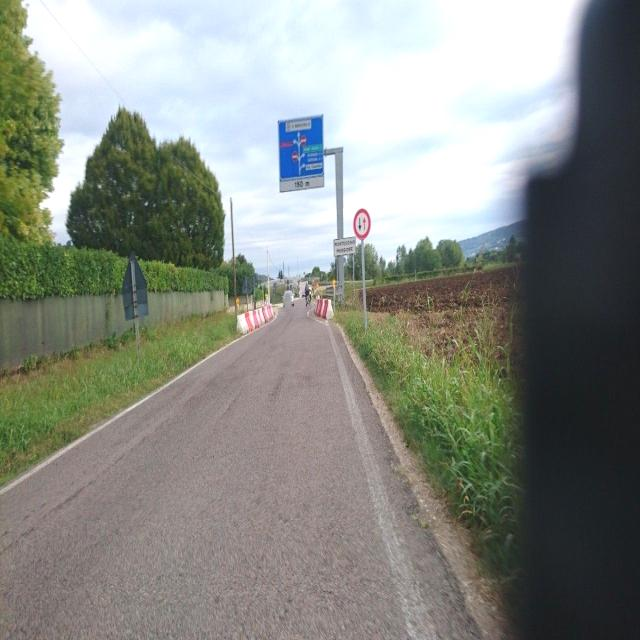car: (283, 290, 295, 306)
